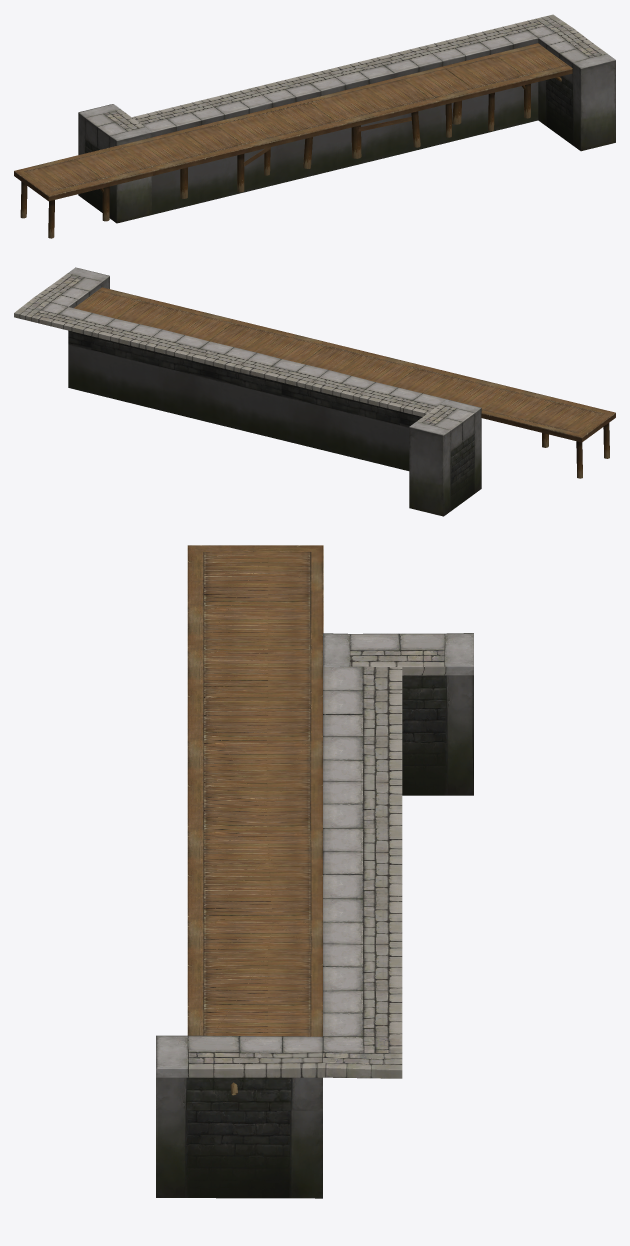
Rendered from quaypart_04.fbx.
3 renders of one model, top to bottom at view 1: azimuth 30°, elevation 25°; view 2: azimuth 150°, elevation 25°; view 3: azimuth 270°, elevation 25°, orthographic. The views are drawn at different scales.
Visible parts, largest first — view 1: GEOM0_LOD0; view 2: GEOM0_LOD0; view 3: GEOM0_LOD0.
Boxes of the visible parts, bbox=[...] form: GEOM0_LOD0: bbox=[14, 14, 615, 238]; GEOM0_LOD0: bbox=[14, 267, 615, 516]; GEOM0_LOD0: bbox=[156, 545, 473, 1198].
Size of what is drawn, in the model's own units: 3185 by 457 by 800.
